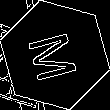M_E: (25, 26, 85, 84)
